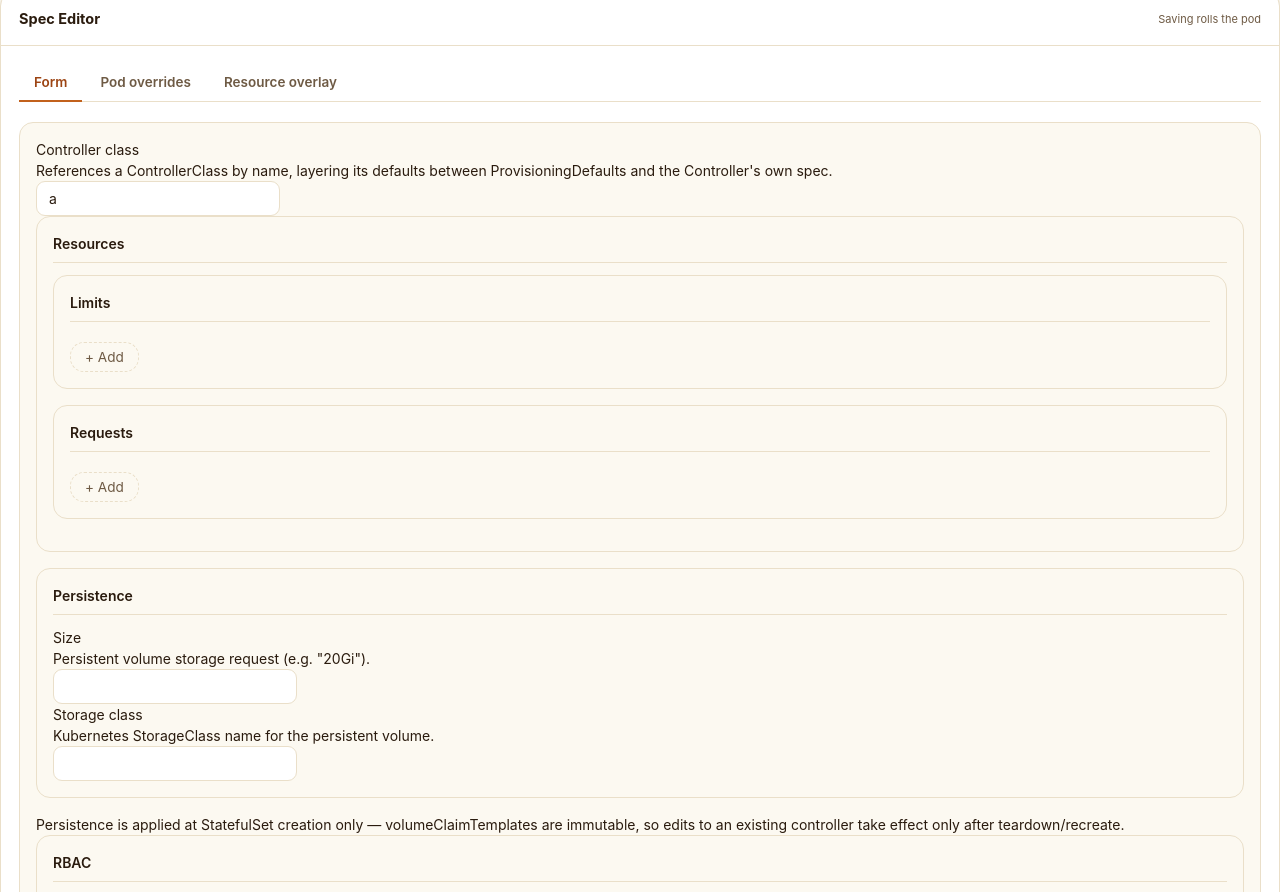
Test: SpecEditorCard save › shows the unqualified success when no removal was blocked
The image size is (1280, 892).
Replace the text in the field labelled "Controller class" with "b" at {"x": 158, "y": 198}, box [36,181,280,216]
(page scrolled)
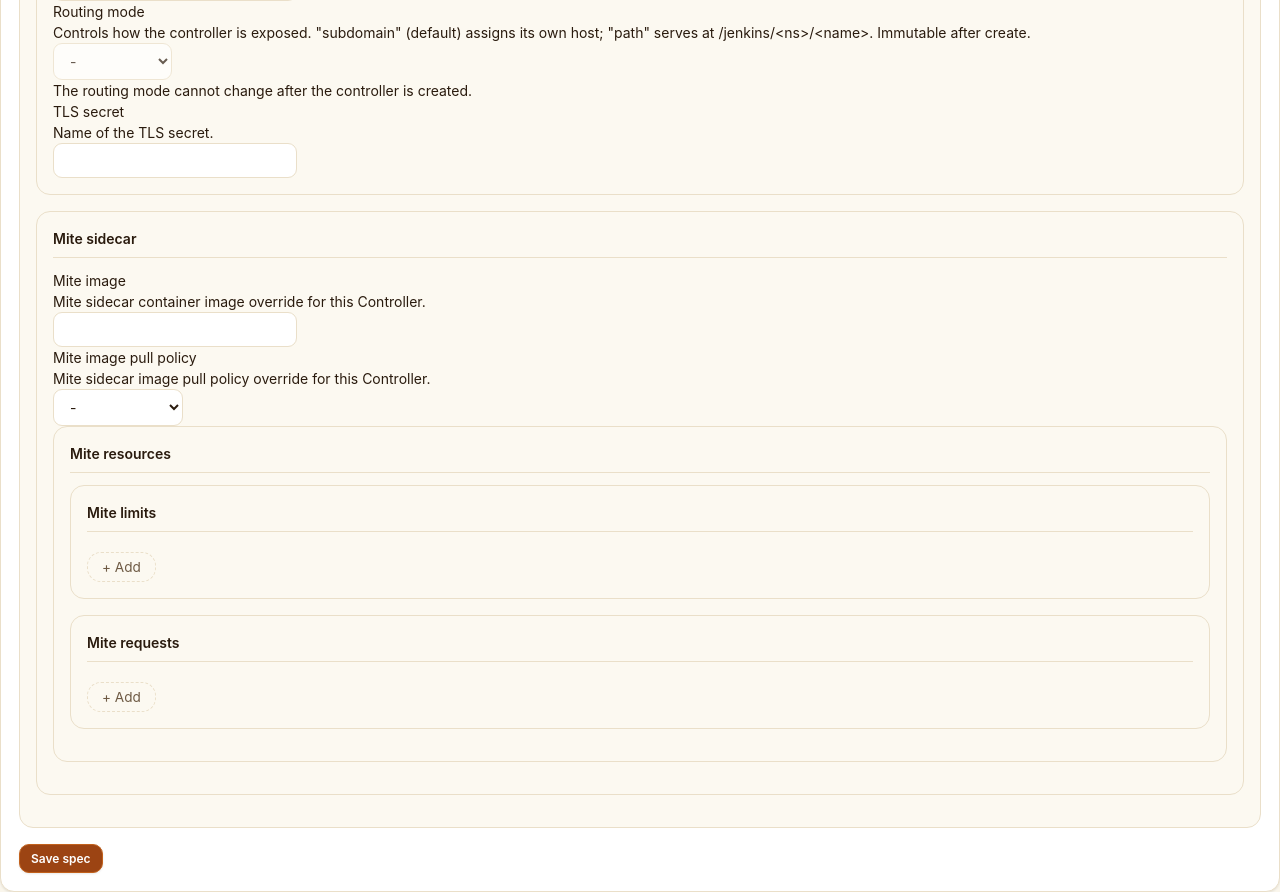
Click the button "Save spec" at {"x": 61, "y": 858}, box [19,844,103,873]
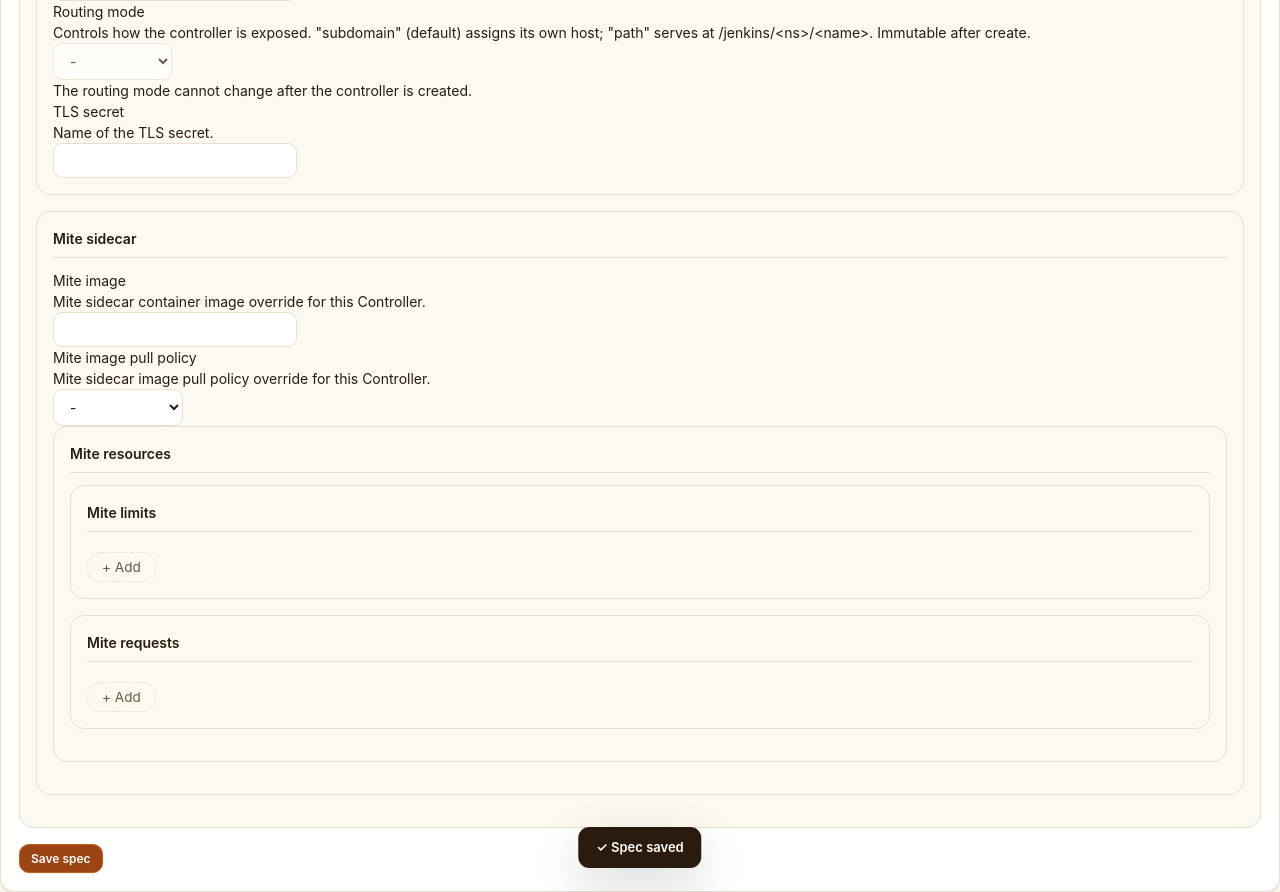
Now the text "✓ Spec saved" is shown, box [578,826,702,868]
